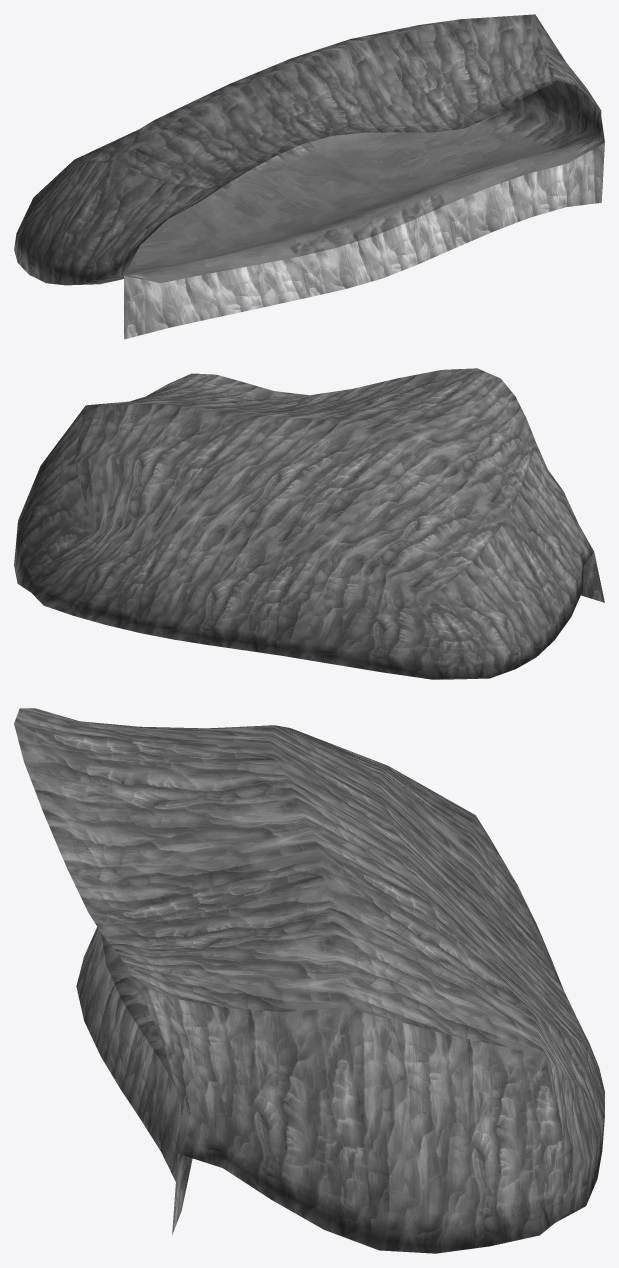
The model's file is SWORDLIGHT20_PS-AREA03_11.fbx.
The picture shows the model from 3 angles, top to bottom: view 1: azimuth 30°, elevation 25°; view 2: azimuth 150°, elevation 25°; view 3: azimuth 270°, elevation 25°; orthographic projection. The views are drawn at different scales.
Visible parts, largest first — view 1: SWORDLIGHT20_PS-AREA03_11; view 2: SWORDLIGHT20_PS-AREA03_11; view 3: SWORDLIGHT20_PS-AREA03_11.
Part boxes in pixels (box(x1,y1,x2,y2)): SWORDLIGHT20_PS-AREA03_11: box(14, 14, 604, 339); SWORDLIGHT20_PS-AREA03_11: box(14, 368, 604, 679); SWORDLIGHT20_PS-AREA03_11: box(14, 708, 604, 1253).
Bounding box in the file's own units: 254380 × 84267 × 157613.
Materials: 5 (5 with a texture image).
